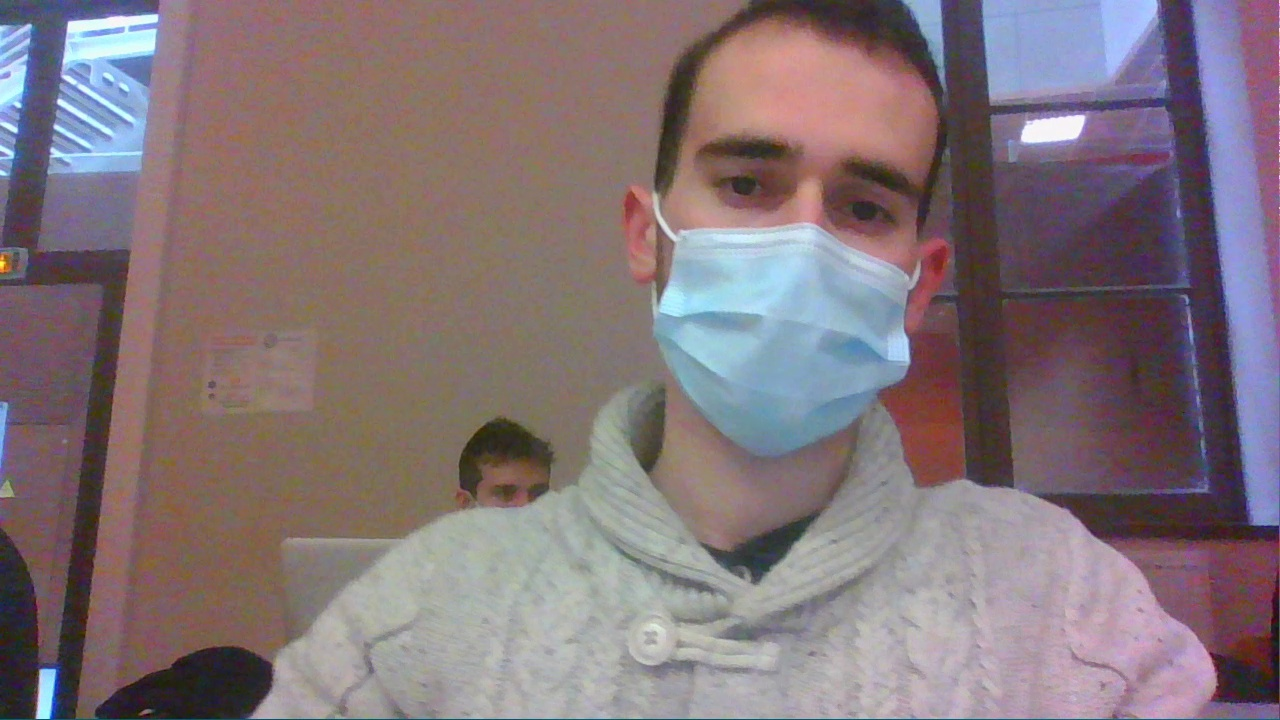mask: (585, 0, 930, 463)
